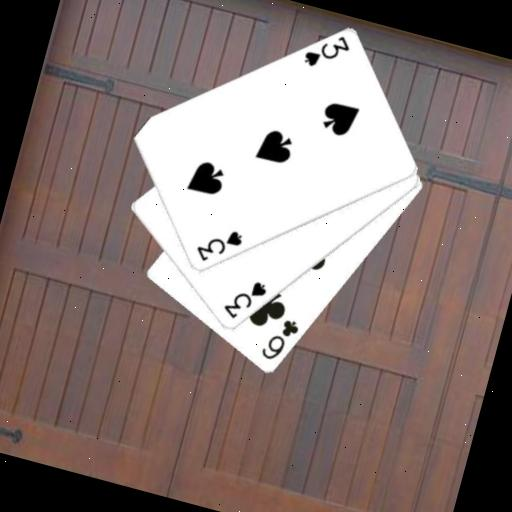3S: (190, 218, 246, 271), (298, 24, 354, 77), (218, 271, 270, 327)
6C: (256, 311, 302, 367)
